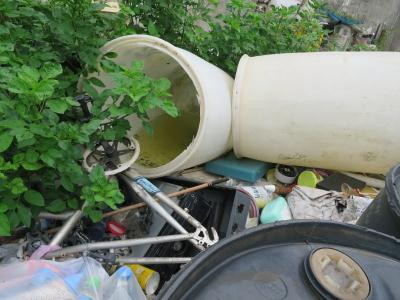bucket: (74, 30, 236, 181), (229, 50, 399, 184)
plastic_bag: (2, 257, 140, 299)
plate: (203, 156, 268, 185)
